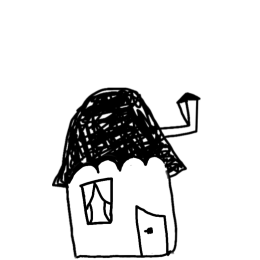bottom_placed_house: (1, 1, 260, 260)
chimney: (149, 82, 218, 148)
door: (123, 205, 175, 260)
open_window: (77, 176, 119, 228)
shaded_roof: (30, 81, 208, 189)
wall: (55, 152, 185, 260)
